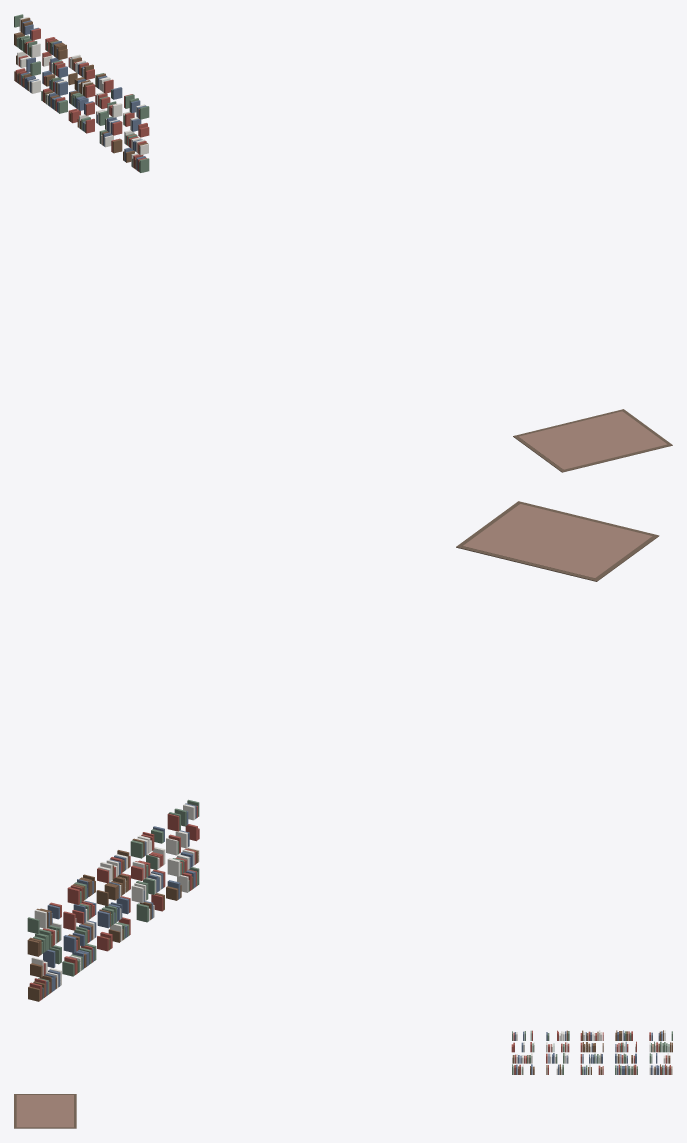
Rendered from fine-s1.glb.
3 renders of one model, top to bottom at view 1: azimuth 30°, elevation 25°; view 2: azimuth 150°, elevation 25°; view 3: azimuth 270°, elevation 25°, orthographic. The views are drawn at different scales.
Visible parts, largest first — view 1: soft-s1; view 2: soft-s1; view 3: soft-s1.
Boxes of the visible parts, x1=… form: soft-s1: x1=14, y1=14, x2=672, y2=472; soft-s1: x1=27, y1=501, x2=659, y2=1001; soft-s1: x1=14, y1=1030, x2=672, y2=1128.
Size of the model in its own units: 3.3 by 1.93 by 21.05.
